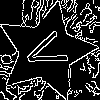V: (21, 26, 78, 75)
